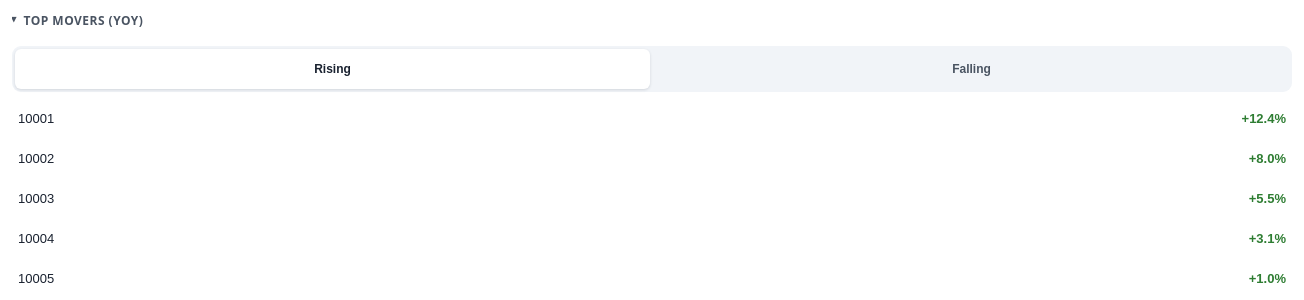
Test: TopMovers (009 R6) › toggles to falling ZIPs
The width and height of the screenshot is (1304, 300).
Click the button "Falling" at coordinates (972, 69), box x1=654 y1=49 x2=1289 y2=89
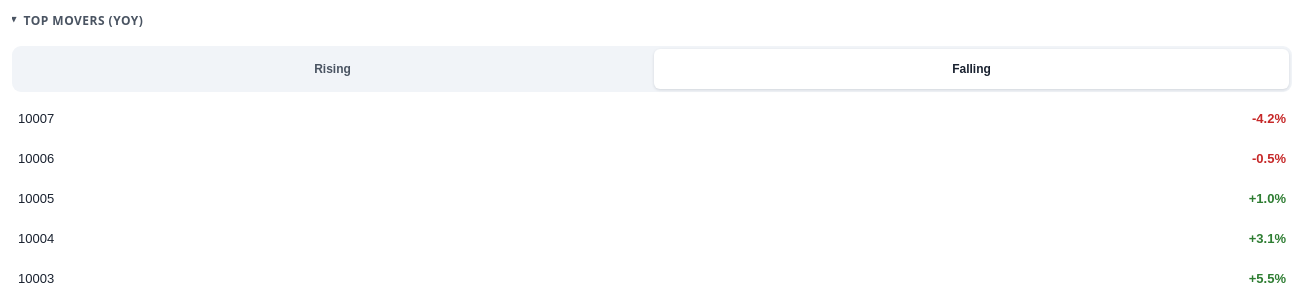
Expected: the list item "10007 -4.2%" is shown, x1=12 y1=98 x2=1292 y2=138
